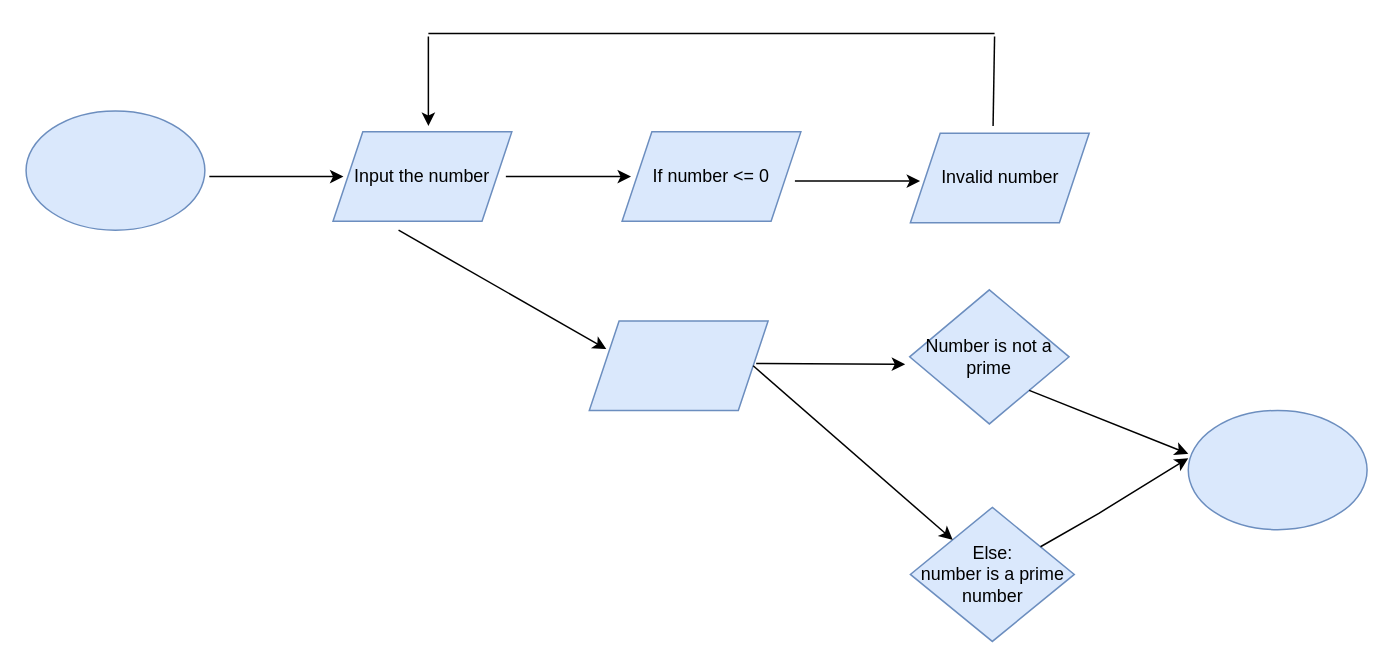
This 1393x668 diagram has some shape labels left out. Each missing label, with the centre of its shape:
End: (x=1277, y=469)
If (number %i) == 0: (x=678, y=365)
Start: (x=115, y=170)
